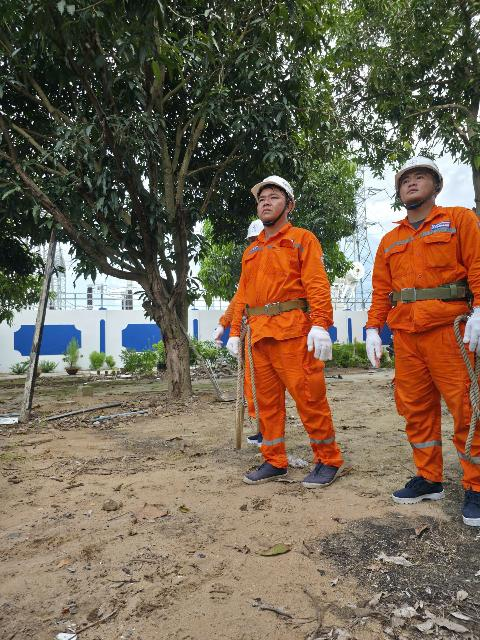gloves: (303, 322, 338, 367), (458, 298, 480, 357), (360, 323, 387, 369), (206, 325, 232, 351), (224, 336, 243, 358)
harness: (378, 283, 478, 311), (228, 294, 322, 321)
helmet: (390, 150, 449, 201), (244, 168, 302, 212), (241, 220, 273, 243)
shoes: (384, 464, 446, 506), (236, 456, 297, 488), (296, 457, 348, 485), (457, 487, 480, 529), (242, 428, 273, 452)
